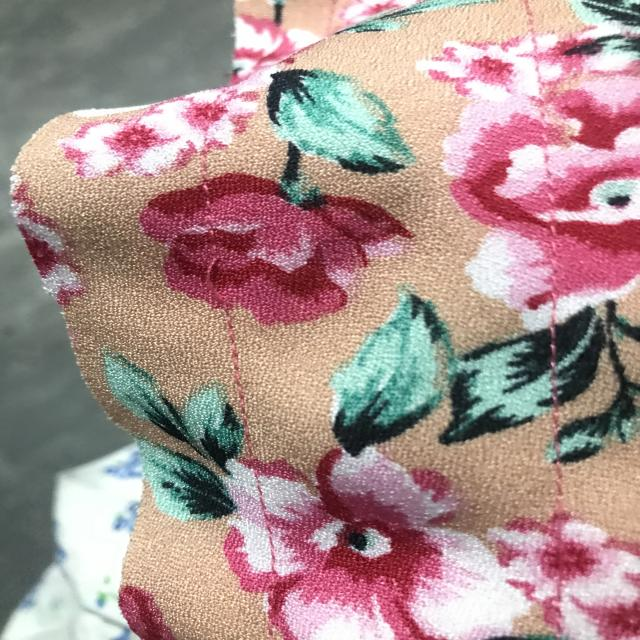skip: (184, 248, 251, 310)
